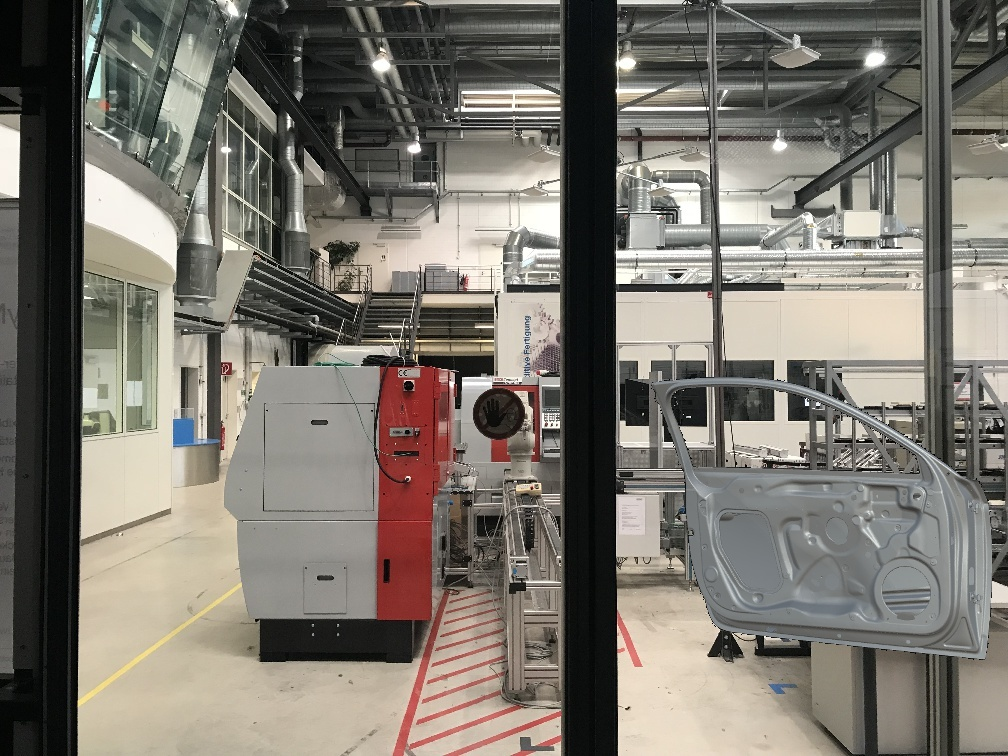car_door: (651, 377, 991, 659)
